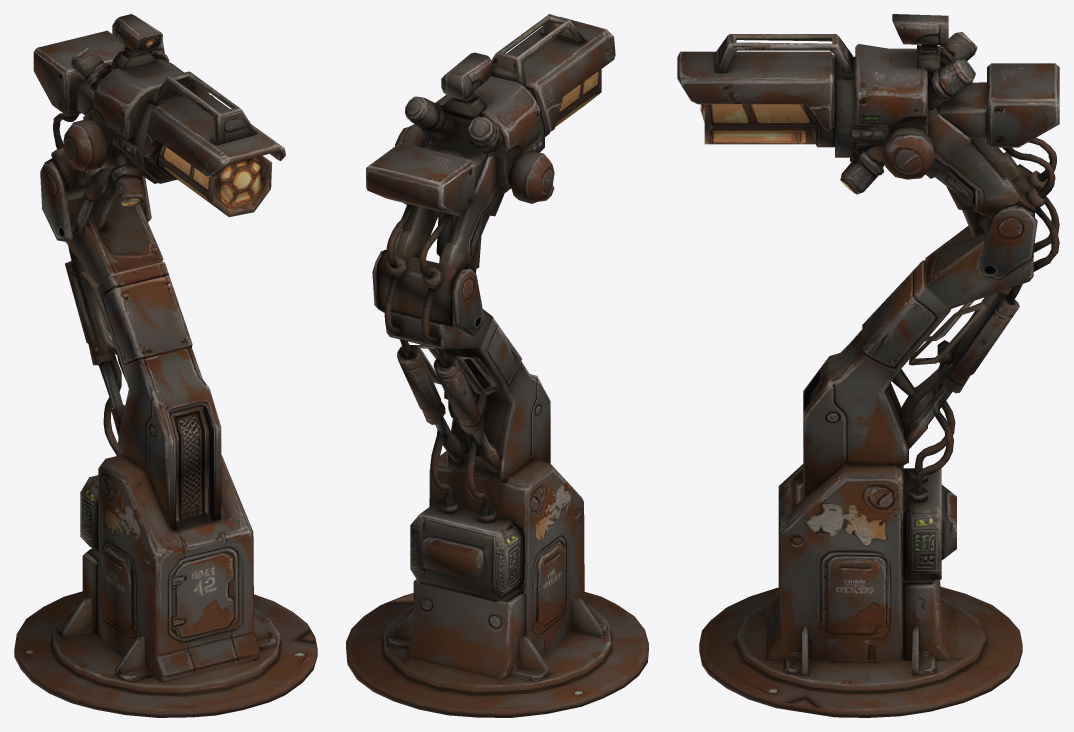
Rendered from 019eb027-27bc-7faa-b36c-969eaaf6131c.glb.
3 views of the same model, side by side, from view 1: azimuth 30°, elevation 25°; view 2: azimuth 150°, elevation 25°; view 3: azimuth 270°, elevation 25° (orthographic). The views are drawn at different scales.
Parts seen in each view (by area): view 1: tripo_node_4cac7b90-a1c9-4d02-b76b-0c774708c6b0; view 2: tripo_node_4cac7b90-a1c9-4d02-b76b-0c774708c6b0; view 3: tripo_node_4cac7b90-a1c9-4d02-b76b-0c774708c6b0.
Part boxes in pixels (left/top/right/bottom): tripo_node_4cac7b90-a1c9-4d02-b76b-0c774708c6b0: left=14, top=14, right=317, bottom=717; tripo_node_4cac7b90-a1c9-4d02-b76b-0c774708c6b0: left=346, top=14, right=648, bottom=717; tripo_node_4cac7b90-a1c9-4d02-b76b-0c774708c6b0: left=677, top=14, right=1059, bottom=717.
Bounding box in the file's own units: 0.4473 × 0.998 × 0.5449.
1 material, 1 textured.
